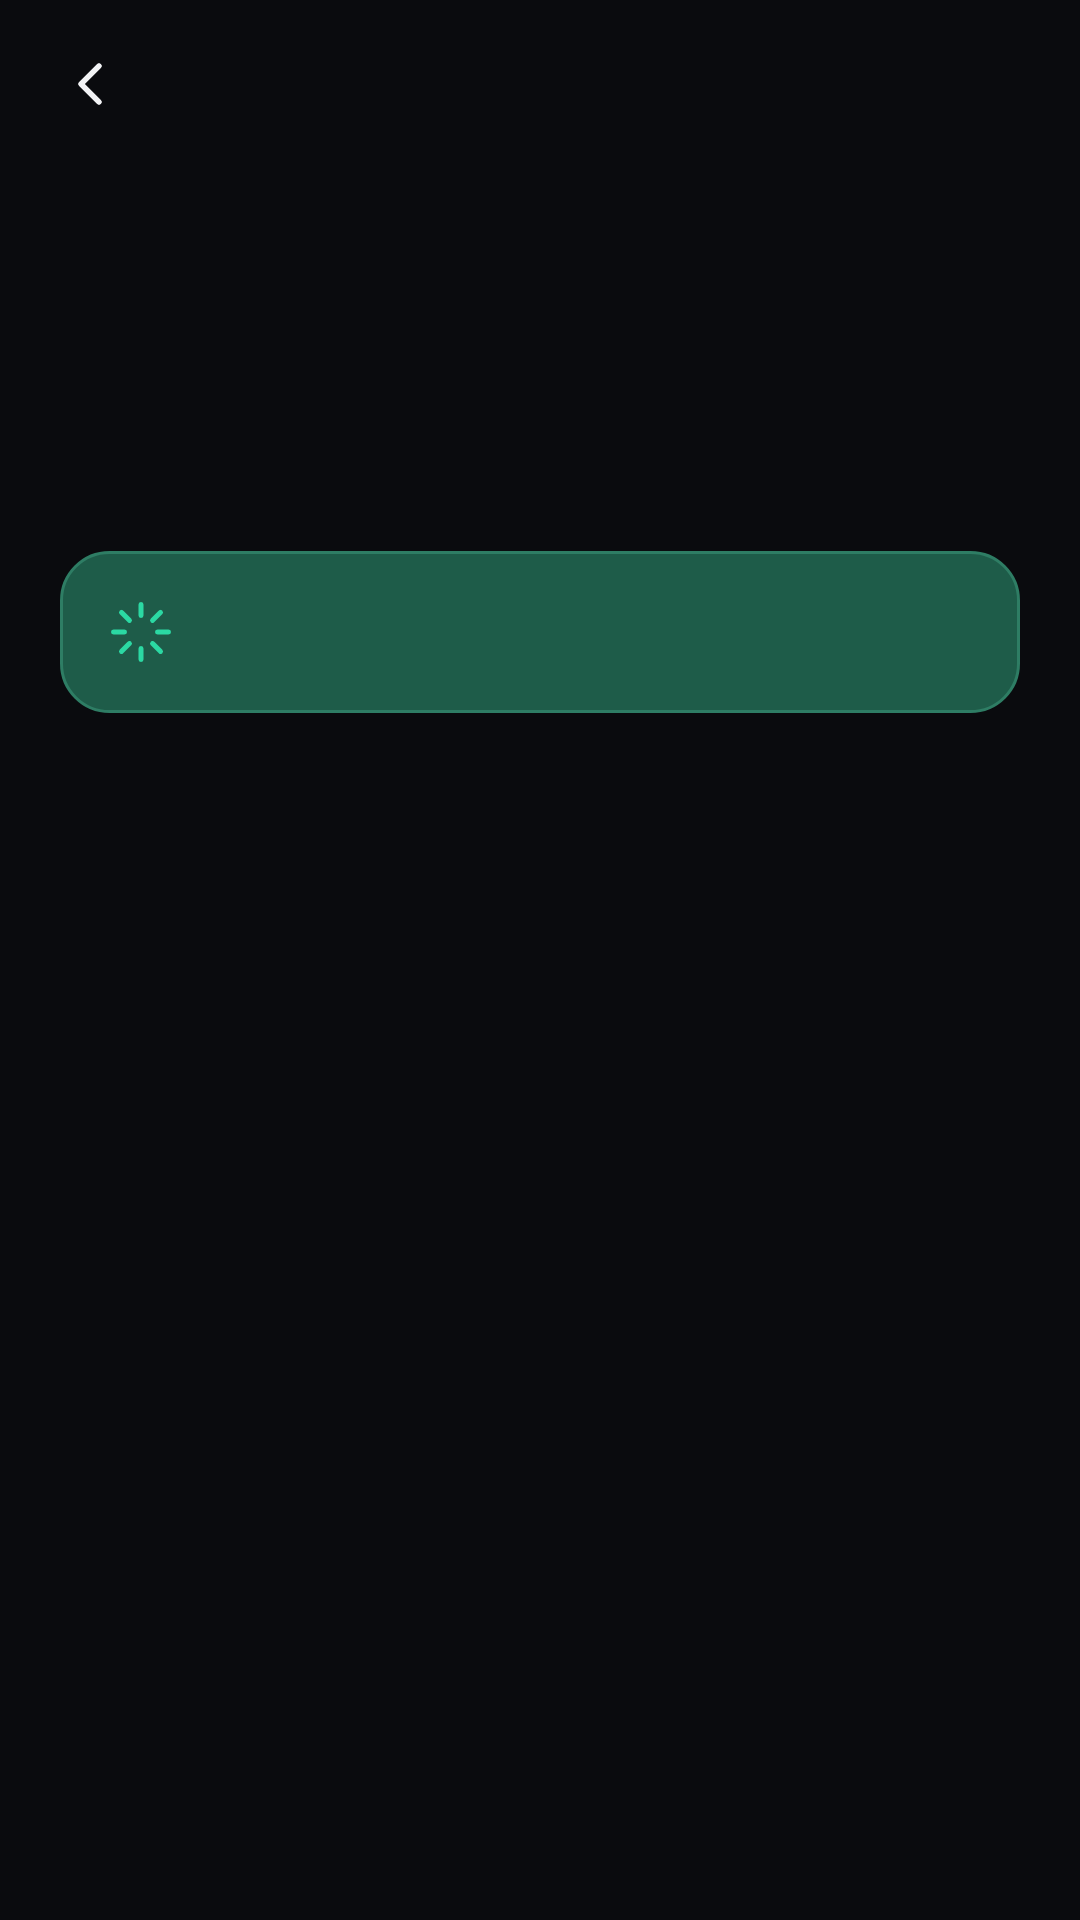

Icons on this 1080*1920 Android screen, each with its box as detection(x1, y1, x2, y2):
Atrás: detection(78, 63, 102, 105)
